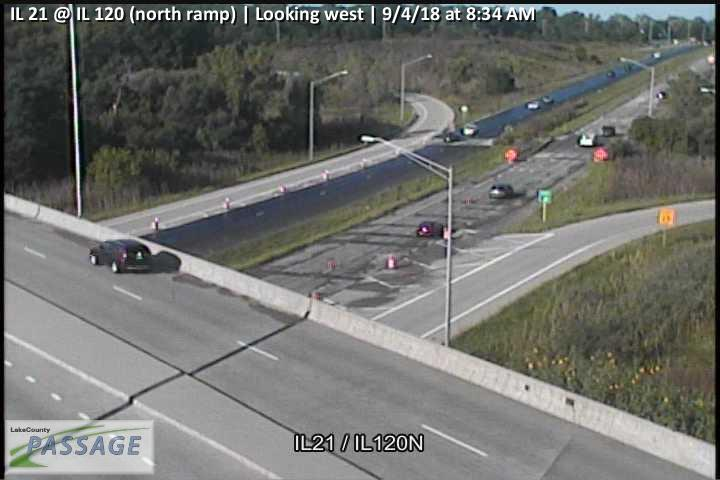SUV: (89, 238, 153, 273), (415, 220, 444, 237), (489, 183, 514, 198)
